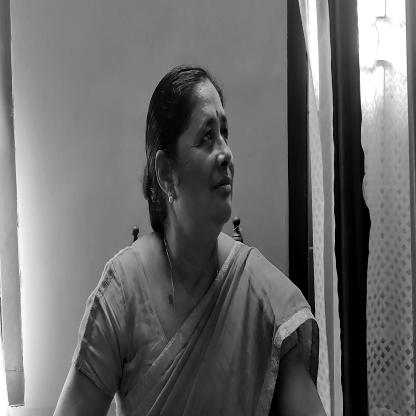Distracted: (152, 66, 243, 241)
